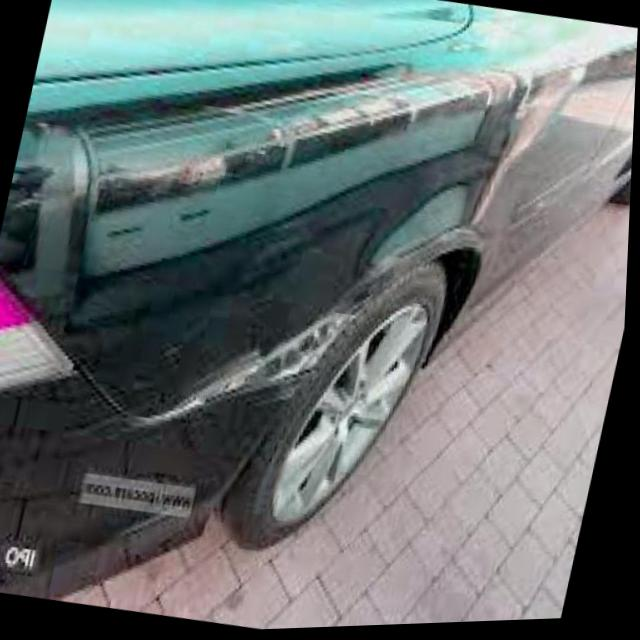Car-Damage: (118, 266, 357, 488)
